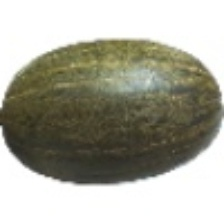honeydew: (22, 21, 204, 166)
